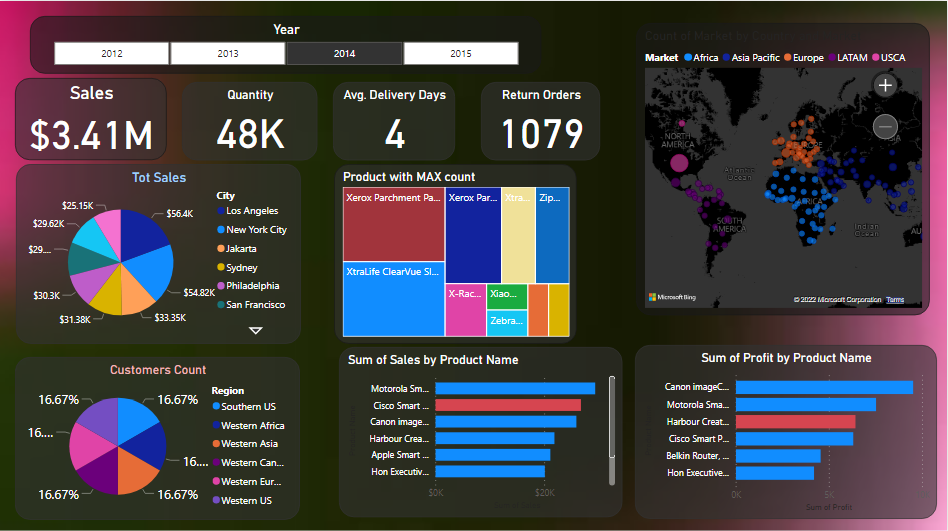

This screenshot's page, from the dashboard's own definition file:
{"tool":"powerbi","page":{"name":"Page 1","canvas":[1280,720],"ordinal":0},"visuals":[{"type":"card","title":"Sales","fields":{"Values":["Sum(Orders.Sales)"]},"box":[21.8,104.1,204.9,110.9],"z":0},{"type":"card","title":"Quantity","fields":{"Values":["Sum(Orders.Quantity)"]},"box":[246.9,109.2,183.1,105.8],"z":1000},{"type":"card","title":"Avg. Delivery Days","fields":{"Values":["Avg(Orders.Delivery Days)"]},"box":[451.9,109.2,164.6,105.8],"z":2000},{"type":"card","title":"Return Orders","fields":{"Values":["Sum(Returns.Return Orders)"]},"box":[651.8,109.2,161.3,105.8],"z":3000},{"type":"barChart","fields":{"Category":["Orders.Product Name"],"Y":["Sum(Orders.Profit)"]},"box":[860,465,407.5,235],"z":4000},{"type":"barChart","fields":{"Category":["Orders.Product Name"],"Y":["Sum(Orders.Sales)"]},"box":[460,467.5,382.5,230],"z":5000},{"type":"pieChart","title":"Tot Sales","fields":{"Category":["Orders.City"],"Y":["Sum(Orders.Sales)"]},"box":[22.5,220,385,242.5],"z":6000},{"type":"pieChart","title":"Customers Count","fields":{"Y":["CountNonNull(People.Person)"],"Category":["People.Region"]},"box":[21.8,480.4,384.7,220.1],"z":7000},{"type":"treemap","title":"Product with MAX count","fields":{"Group":["Orders.Product Name"],"Values":["CountNonNull(Orders.Region)"]},"box":[452.5,220,327.5,242.5],"z":8000},{"type":"map","fields":{"Category":["Orders.Country"],"Series":["Orders.Market"],"Size":["CountNonNull(Orders.Market)"]},"box":[860.3,29.8,396.9,395.4],"z":9000},{"type":"slicer","title":"Year","fields":{"Values":["Orders.Year"]},"box":[41.3,20.6,690.9,78.5],"z":10000}]}

Visuals, with their boxes in screenshot pixels (x1, y1, x2, y2), scaled from the page's 1280x720 canvas onto the 948x531 screenshot:
"Sales" card: pyautogui.locateOnScreen(16, 77, 168, 159)
"Quantity" card: pyautogui.locateOnScreen(183, 81, 318, 159)
"Avg. Delivery Days" card: pyautogui.locateOnScreen(335, 81, 457, 159)
"Return Orders" card: pyautogui.locateOnScreen(483, 81, 602, 159)
barChart - Orders.Product Name x Sum(Orders.Profit): pyautogui.locateOnScreen(637, 343, 939, 516)
barChart - Orders.Product Name x Sum(Orders.Sales): pyautogui.locateOnScreen(341, 345, 624, 514)
"Tot Sales" pieChart: pyautogui.locateOnScreen(17, 162, 302, 341)
"Customers Count" pieChart: pyautogui.locateOnScreen(16, 354, 301, 517)
"Product with MAX count" treemap: pyautogui.locateOnScreen(335, 162, 578, 341)
map - Orders.Country x Orders.Market: pyautogui.locateOnScreen(637, 22, 931, 314)
"Year" slicer: pyautogui.locateOnScreen(31, 15, 542, 73)
